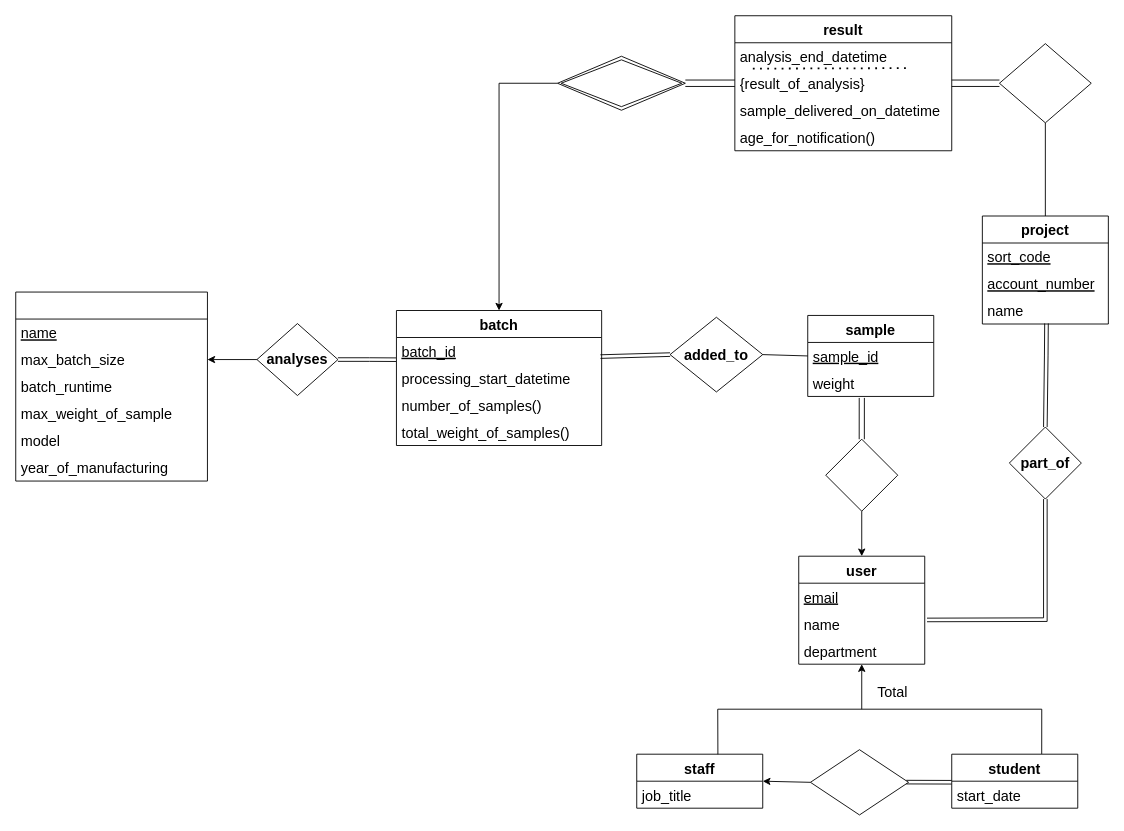
Image size: 1124x831. Some labels were removed from this diagram. Here are the shapes that lost their labels. From the top down, the box of each, then its label:
(557, 55, 685, 110): saves
(999, 43, 1091, 123): charged_to
(15, 291, 207, 481): machine
(825, 438, 898, 511): provides
(810, 749, 909, 815): supervises
